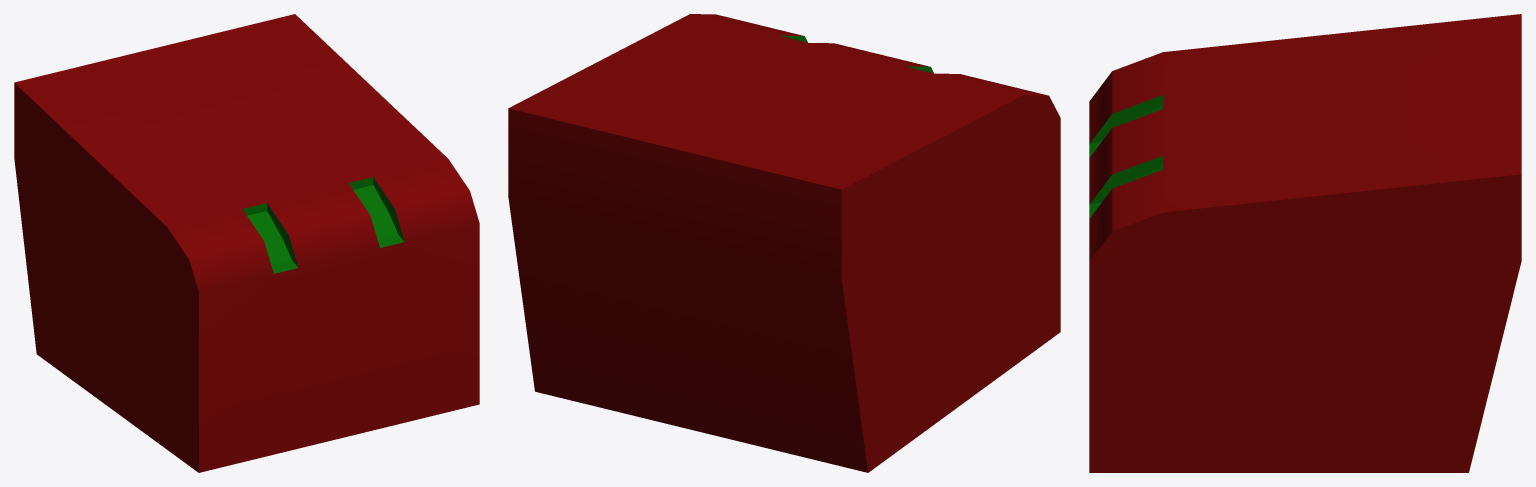
File: TowerTopLight.fbx
3 views of the same model, side by side, from view 1: azimuth 30°, elevation 25°; view 2: azimuth 150°, elevation 25°; view 3: azimuth 270°, elevation 25° (orthographic). The views are drawn at different scales.
Visible parts, largest first — view 1: TowerLightTop; view 2: TowerLightTop; view 3: TowerLightTop.
Part boxes in pixels (box(x1,y1,x2,y2)): TowerLightTop: box(14, 14, 479, 472); TowerLightTop: box(508, 14, 1060, 472); TowerLightTop: box(1089, 14, 1521, 472).
Size of the model in its own units: 0.5987 by 0.5199 by 0.6817.
